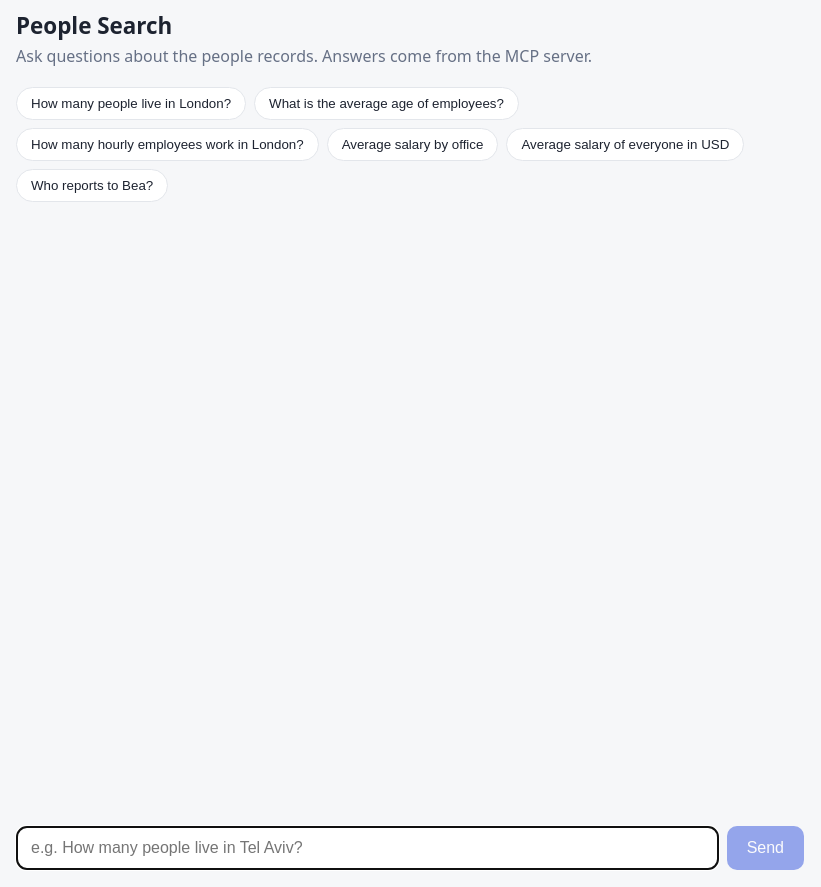
Scenario: People Search chat › clicking an example asks it
The width and height of the screenshot is (821, 887).
What coordinates should you click on to do the following:
click the button "What is the average age of employees?"
I would click on:
 (387, 104)
Its box is [254,87,519,120].
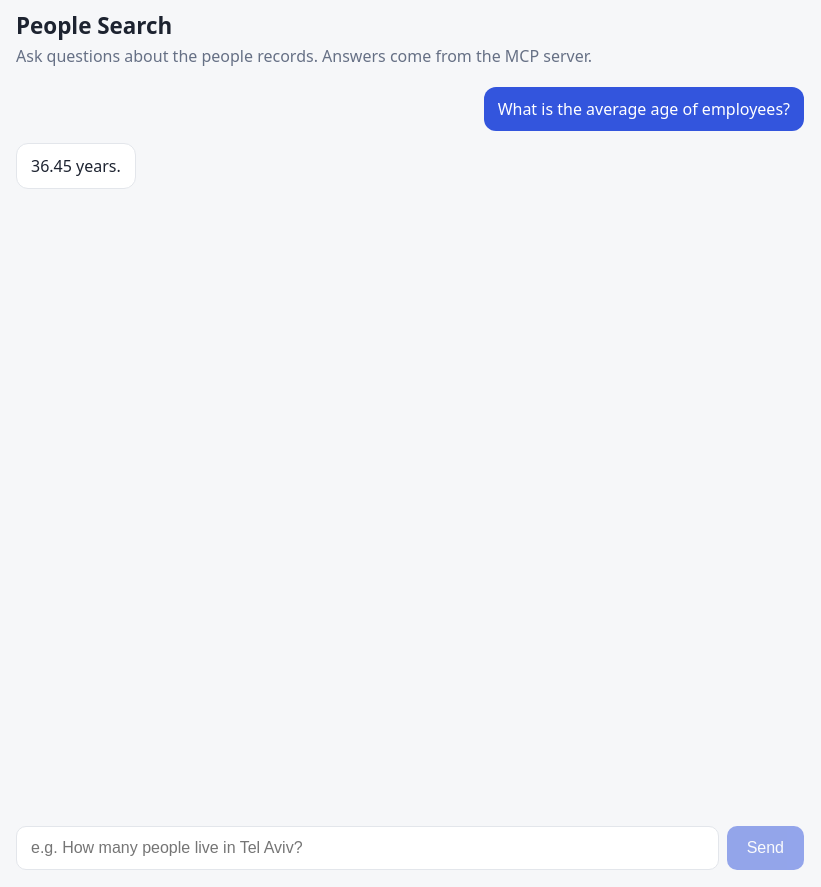
Result: the text "36.45 years." is shown at [31,154,121,178]
